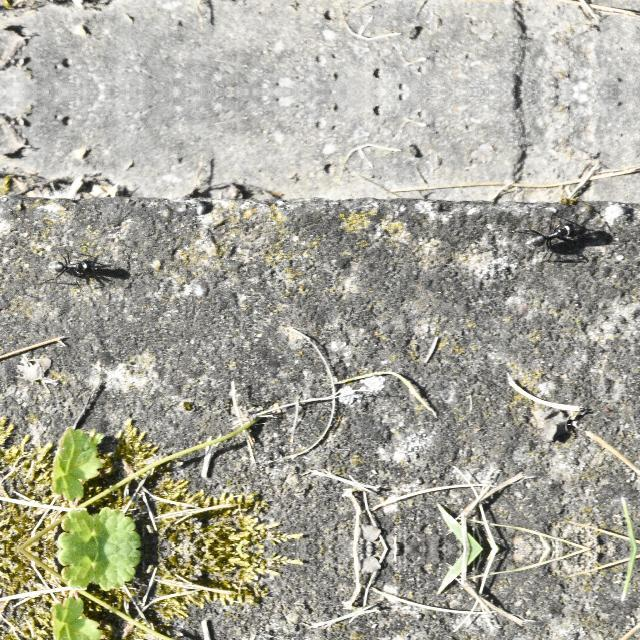Camponotus: (516, 216, 590, 258), (44, 250, 102, 284)
